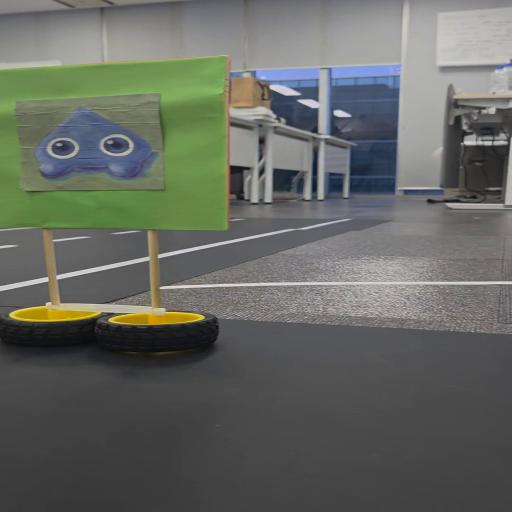Sign_B: (4, 55, 244, 364)
